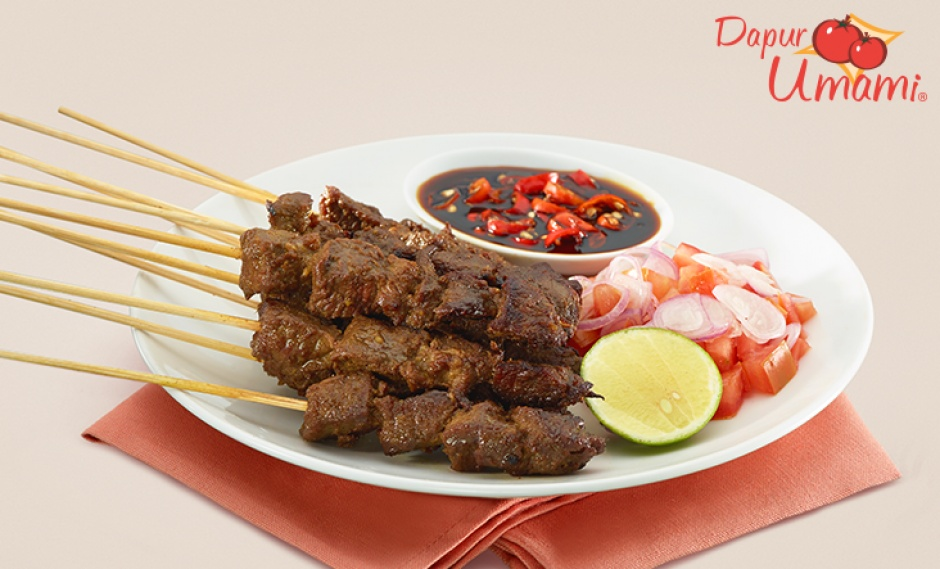sate: (0, 99, 606, 478)
